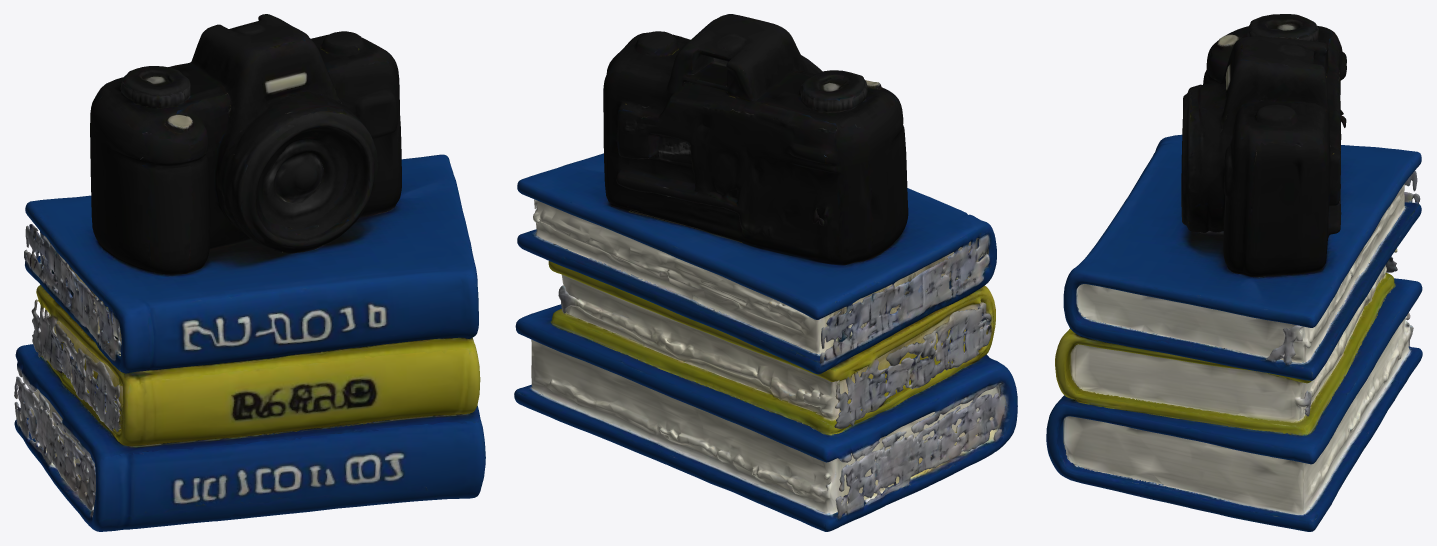
Rendered from books.glb.
The picture shows the model from 3 angles, left to right: view 1: azimuth 30°, elevation 25°; view 2: azimuth 150°, elevation 25°; view 3: azimuth 270°, elevation 25°; orthographic projection. The views are drawn at different scales.
Visible parts, largest first — view 1: geometry_0; view 2: geometry_0; view 3: geometry_0.
Boxes of the visible parts, box(x1,y1,x2,y2) form: geometry_0: box(14, 14, 485, 531); geometry_0: box(514, 14, 1017, 531); geometry_0: box(1046, 14, 1422, 531).
Bounding box in the file's own units: 0.9997 × 0.9187 × 0.7988.
1 material, 1 textured.
